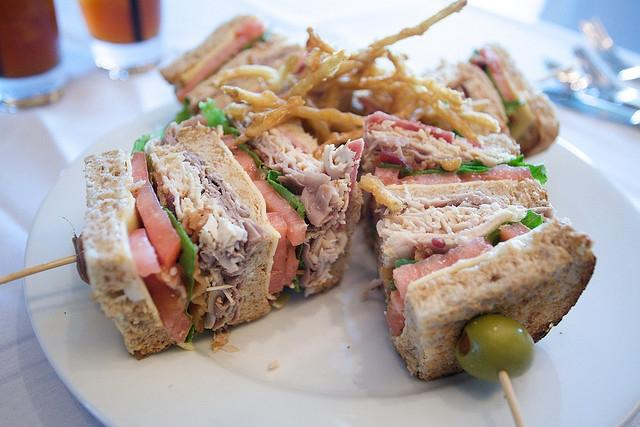lettuce: (158, 201, 199, 343), (380, 154, 550, 185), (266, 170, 306, 292), (202, 32, 272, 82), (484, 66, 526, 128), (484, 209, 544, 248), (198, 96, 240, 140), (389, 258, 419, 291), (130, 132, 154, 157), (174, 98, 190, 124)
tomato: (220, 133, 308, 286), (370, 164, 534, 244), (385, 236, 494, 336), (177, 21, 263, 102), (130, 151, 180, 273), (267, 212, 288, 294), (128, 228, 162, 277)
